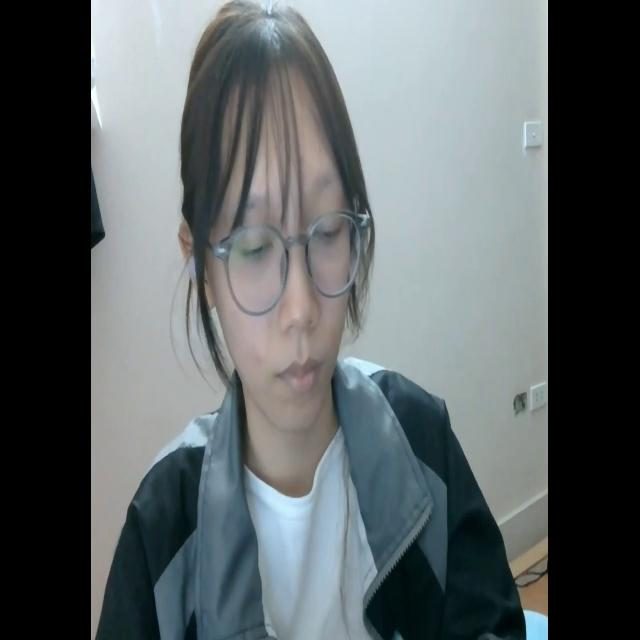student: (112, 0, 523, 640)
